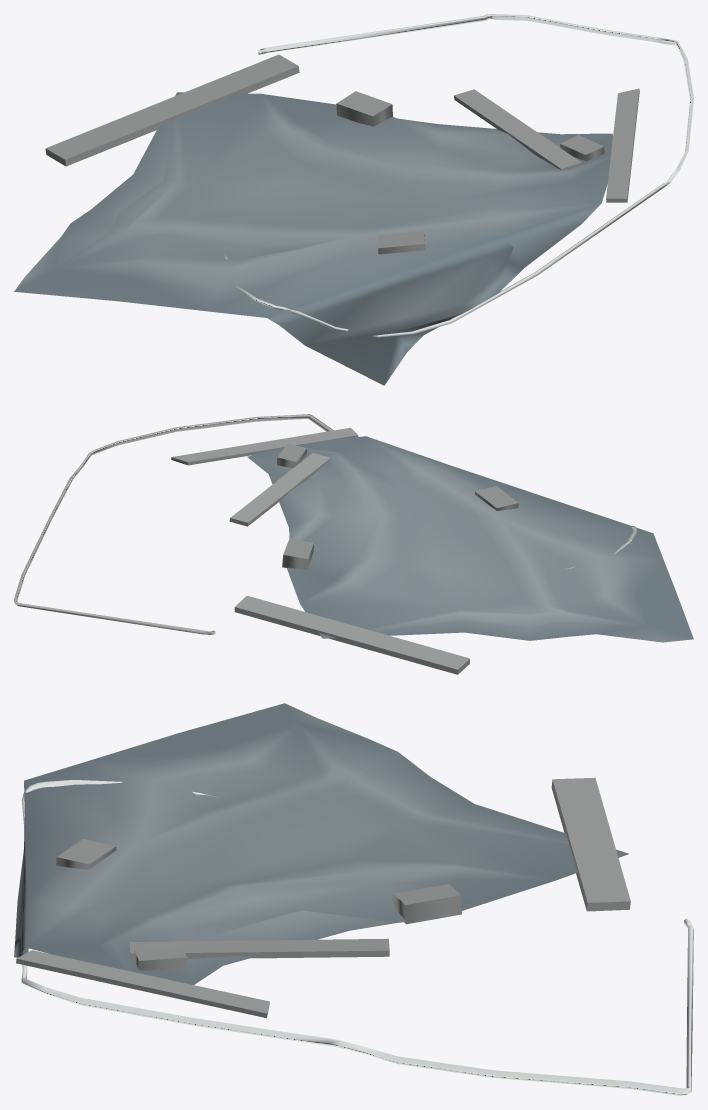
3 views of the same model, one above another, from view 1: azimuth 30°, elevation 25°; view 2: azimuth 150°, elevation 25°; view 3: azimuth 270°, elevation 25° (orthographic). The views are drawn at different scales.
Parts seen in each view (by area): view 1: G:\FFXIV-MapTools\exports\n4f2\bg\ex3\01_nvt_n4\fld\n4f2\bgp (×4); view 2: G:\FFXIV-MapTools\exports\n4f2\bg\ex3\01_nvt_n4\fld\n4f2\bgp (×4); view 3: G:\FFXIV-MapTools\exports\n4f2\bg\ex3\01_nvt_n4\fld\n4f2\bgp (×4).
Part boxes in pixels (bbox=[...]): G:\FFXIV-MapTools\exports\n4f2\bg\ex3\01_nvt_n4\fld\n4f2\bgp (×4): bbox=[14, 14, 693, 385]; G:\FFXIV-MapTools\exports\n4f2\bg\ex3\01_nvt_n4\fld\n4f2\bgp (×4): bbox=[14, 414, 693, 674]; G:\FFXIV-MapTools\exports\n4f2\bg\ex3\01_nvt_n4\fld\n4f2\bgp (×4): bbox=[14, 703, 693, 1095].
Size of the model in its own units: 13.22 by 2.84 by 8.93.
